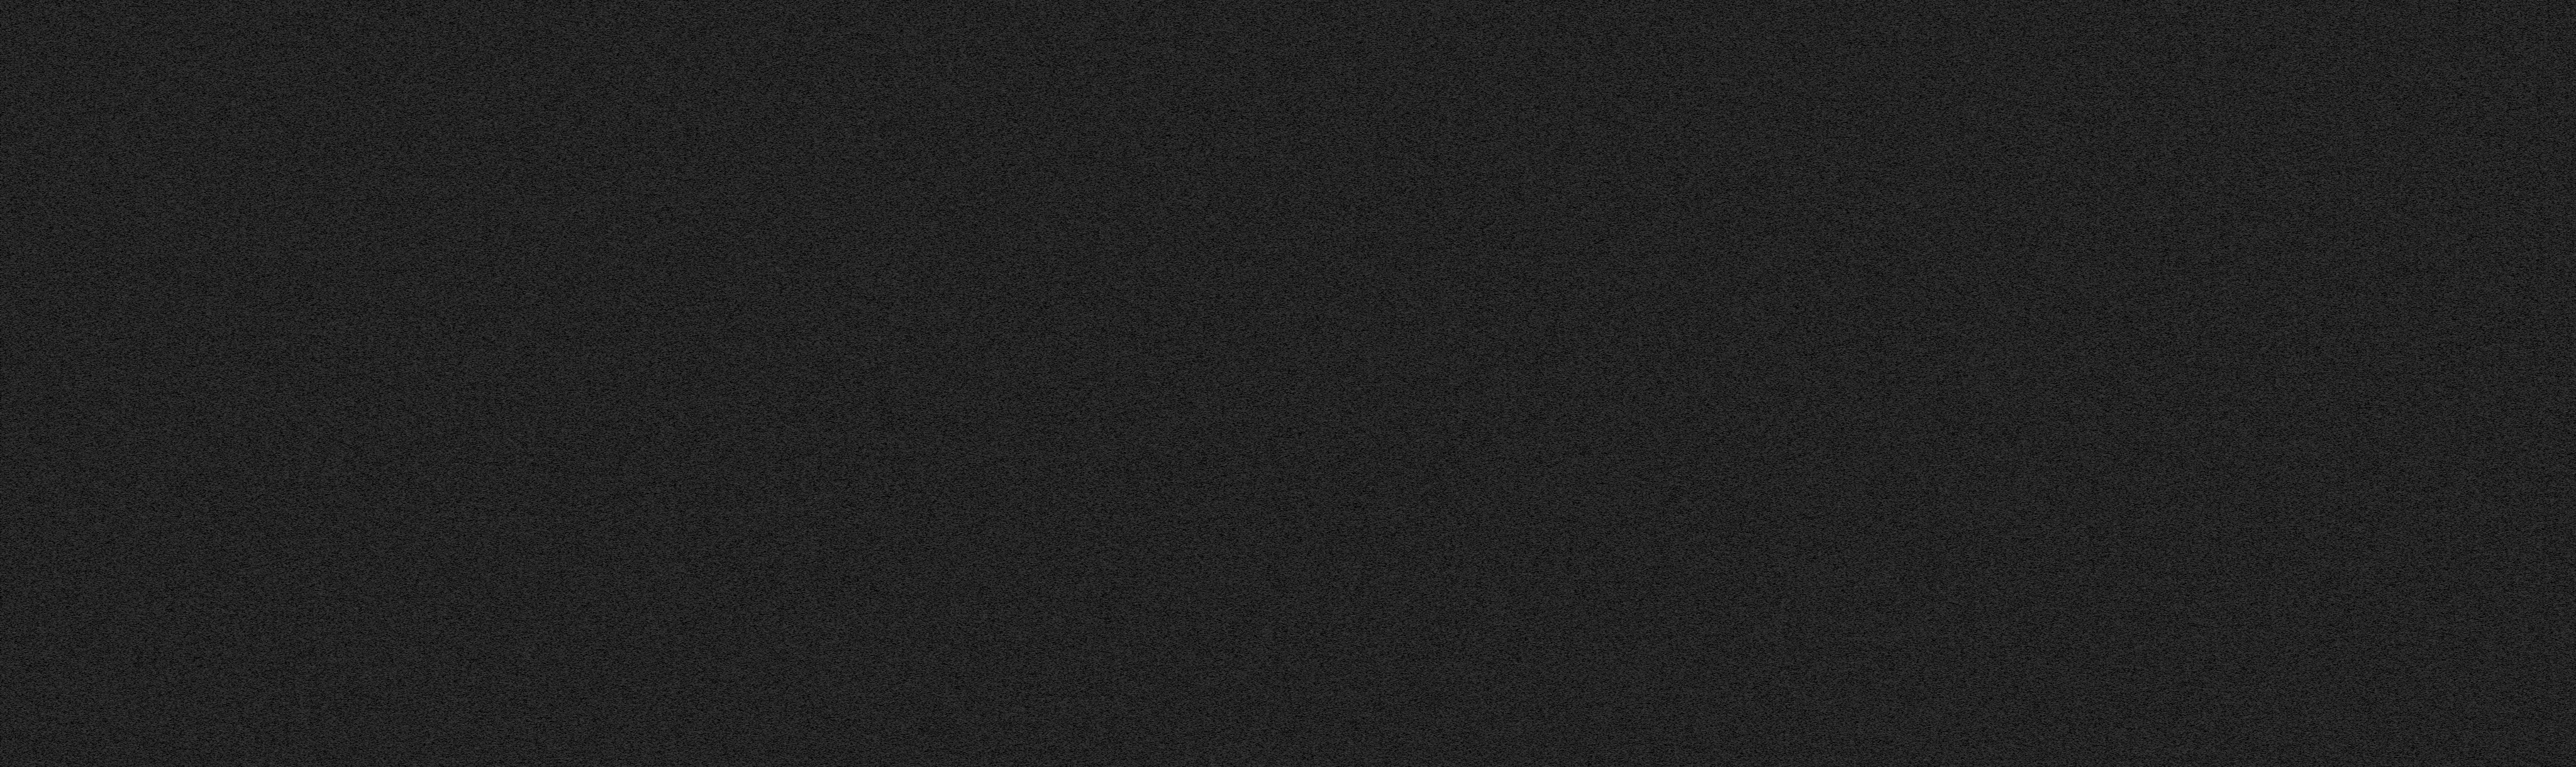wv_cw: (665, 0, 677, 767)
wv_lsb: (2389, 85, 2392, 457), (2389, 480, 2392, 767), (2389, 28, 2392, 84), (2389, 457, 2392, 476), (2390, 23, 2392, 26), (2390, 18, 2392, 21), (2390, 8, 2392, 11), (2390, 13, 2392, 15)
wv_usb: (721, 67, 724, 338), (721, 613, 724, 767), (721, 486, 724, 611), (721, 350, 724, 460), (721, 3, 724, 67), (721, 462, 724, 485), (721, 343, 724, 350), (721, 338, 724, 342)
wv_wbfm: (2160, 0, 2257, 767), (1388, 112, 1479, 409), (1387, 560, 1477, 749), (1390, 54, 1479, 113), (1395, 407, 1469, 478), (1388, 0, 1477, 56), (1388, 476, 1479, 527), (1391, 529, 1474, 544), (1390, 549, 1467, 562), (1411, 749, 1456, 767), (1423, 542, 1477, 550), (1393, 526, 1436, 532), (1437, 558, 1452, 565), (1465, 432, 1470, 435), (1467, 558, 1475, 560), (1465, 535, 1474, 537), (1406, 760, 1411, 762), (1410, 754, 1414, 756), (1390, 110, 1395, 112), (1475, 511, 1479, 512)
